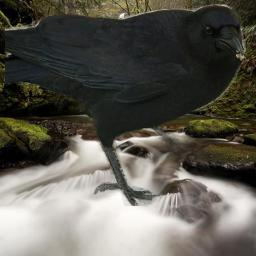Crow: (5, 4, 246, 206)
